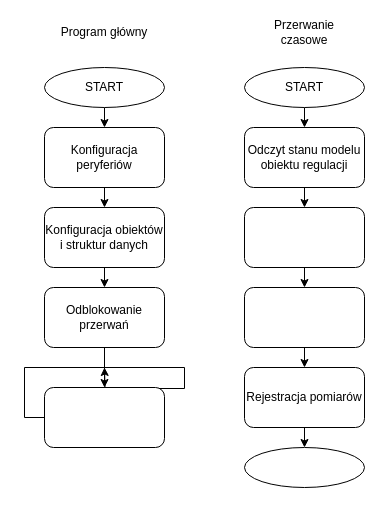
This 382x505 diagram has some shape labels left out. Here are the shapes that lost their labels. From the top down, the centre of each, then its label:
the point at 304,237: Algorytm sterowania
the point at 304,317: Obliczenie aktuanego stanu modelu obiektu regulacji
the point at 104,417: Obsługa interfejsu użytkownika
the point at 304,467: STOP
